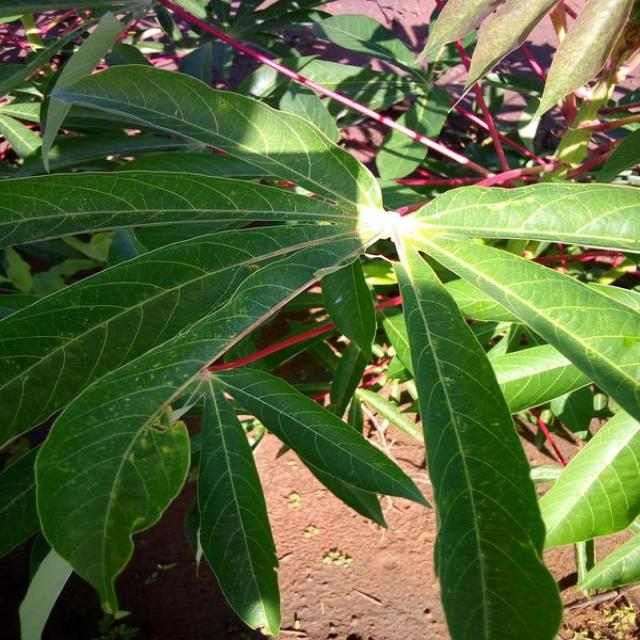cassava leaf: (0, 9, 638, 636), (391, 229, 564, 638)
